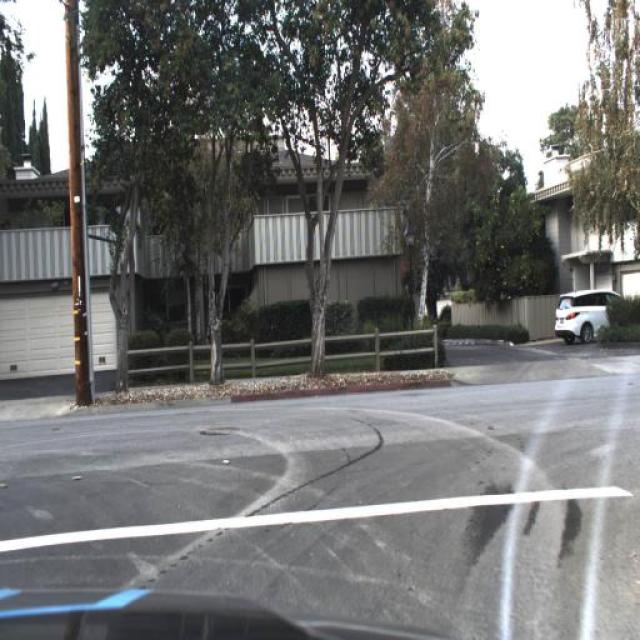car: (550, 287, 624, 342), (556, 290, 620, 340)
